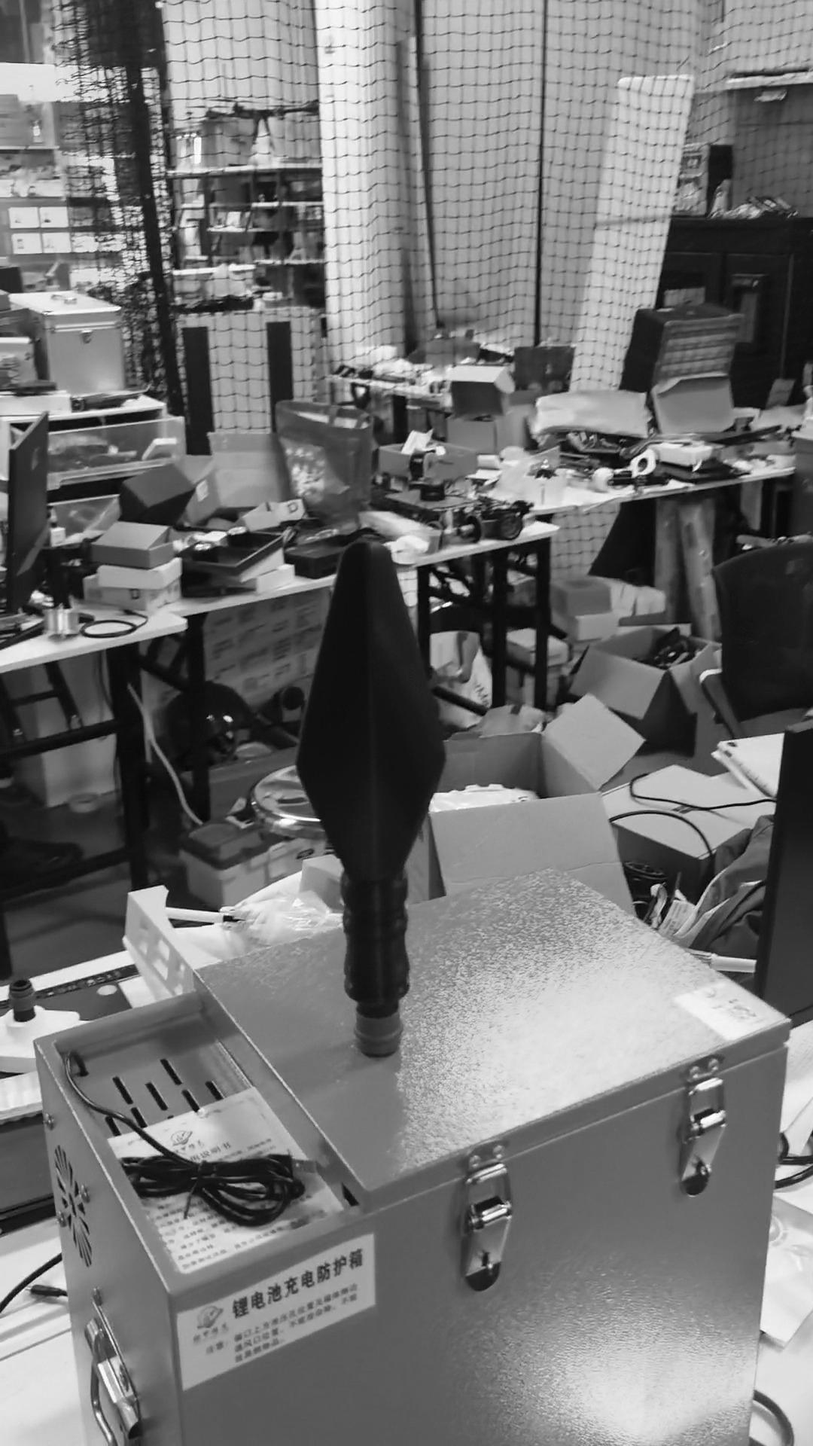base: (349, 1005, 406, 1054)
